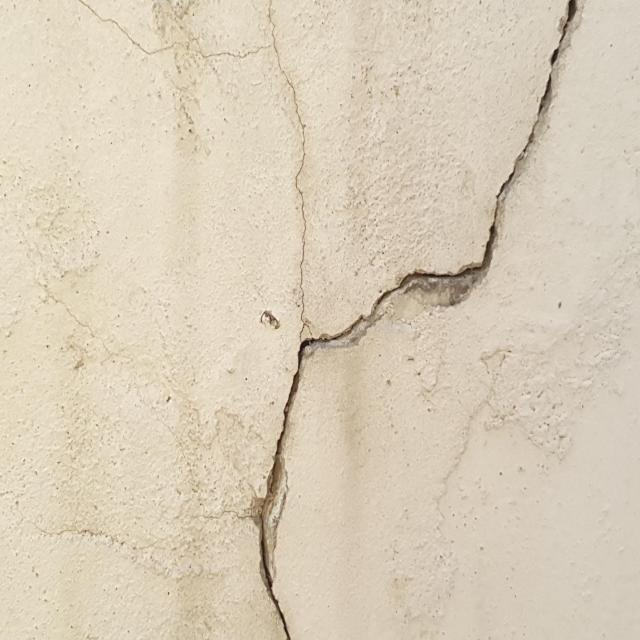SurfaceCrack: (200, 0, 606, 640)
